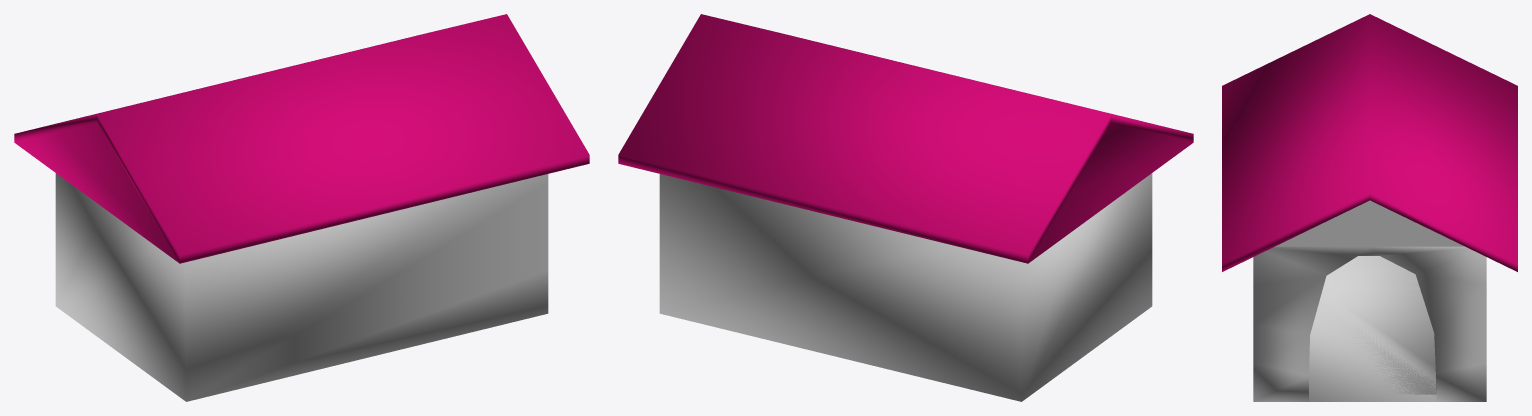
The model's file is doghouse.2.fbx.
The picture shows the model from 3 angles, left to right: view 1: azimuth 30°, elevation 25°; view 2: azimuth 150°, elevation 25°; view 3: azimuth 270°, elevation 25°; orthographic projection. The views are drawn at different scales.
Parts seen in each view (by area): view 1: 平面; view 2: 平面; view 3: 平面.
Boxes of the visible parts, left/top/right/bottom form: 平面: left=14, top=14, right=589, bottom=401; 平面: left=618, top=14, right=1193, bottom=401; 平面: left=1222, top=14, right=1517, bottom=401.
Bounding box in the file's own units: 4 × 2.29 × 2.8.
